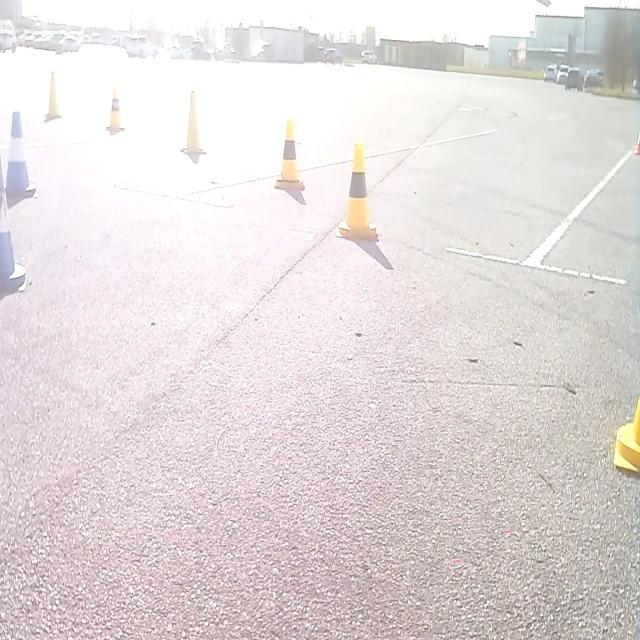orange_cone: (634, 129, 640, 155)
yellow_cone: (337, 141, 379, 242), (0, 158, 27, 296), (4, 108, 37, 205), (274, 116, 305, 192), (613, 393, 639, 473), (180, 89, 206, 162), (43, 69, 62, 122), (106, 85, 124, 135)
